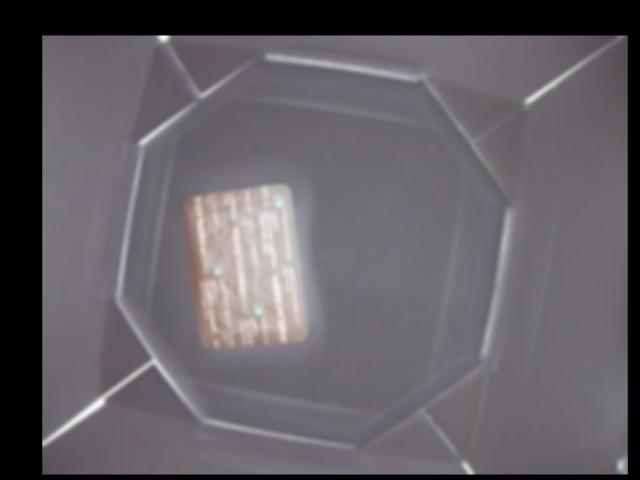Medicine: (184, 182, 310, 351)
